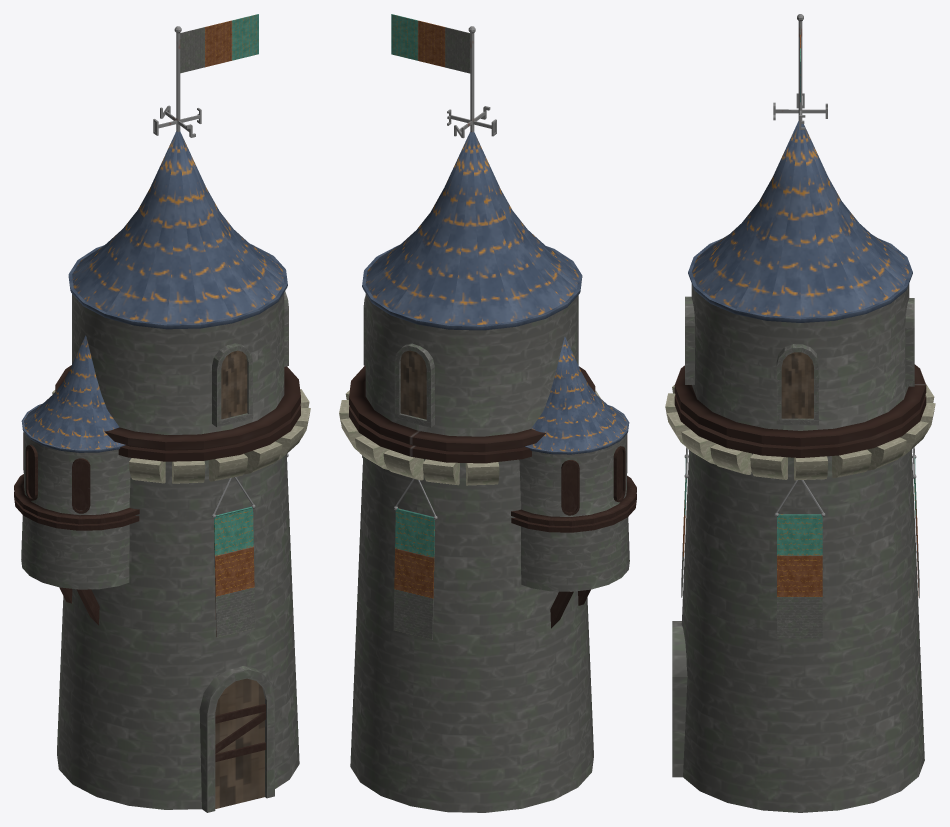
The model's file is SM_Tower_001.fbx.
3 views of the same model, side by side, from view 1: azimuth 30°, elevation 25°; view 2: azimuth 150°, elevation 25°; view 3: azimuth 270°, elevation 25° (orthographic).
Parts seen in each view (by area): view 1: polySurface251; view 2: polySurface251; view 3: polySurface251.
Part boxes in pixels (left/top/right/bottom): polySurface251: left=14, top=14, right=310, bottom=812; polySurface251: left=339, top=14, right=636, bottom=812; polySurface251: left=665, top=14, right=935, bottom=812.
Size of the model in its own units: 352 by 913 by 300.
